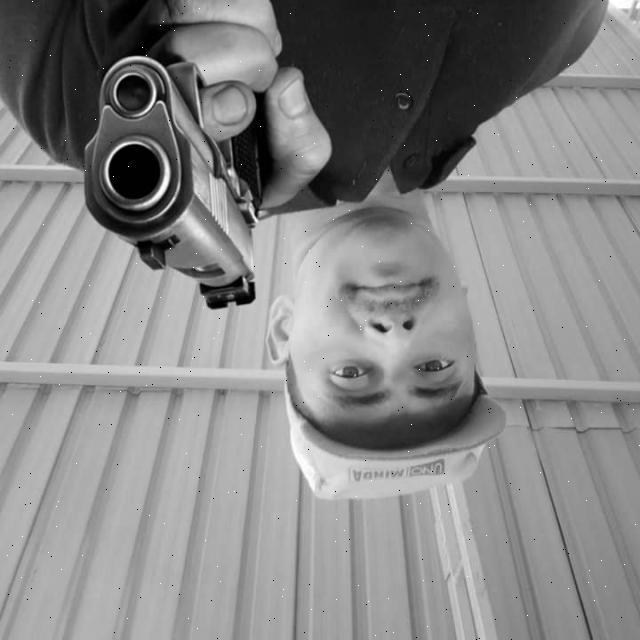gun: (60, 27, 281, 321)
